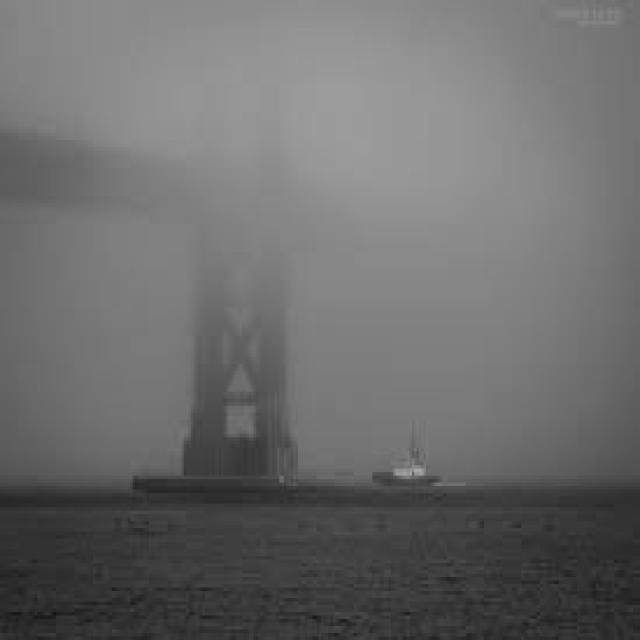cargoship: (365, 399, 451, 488)
